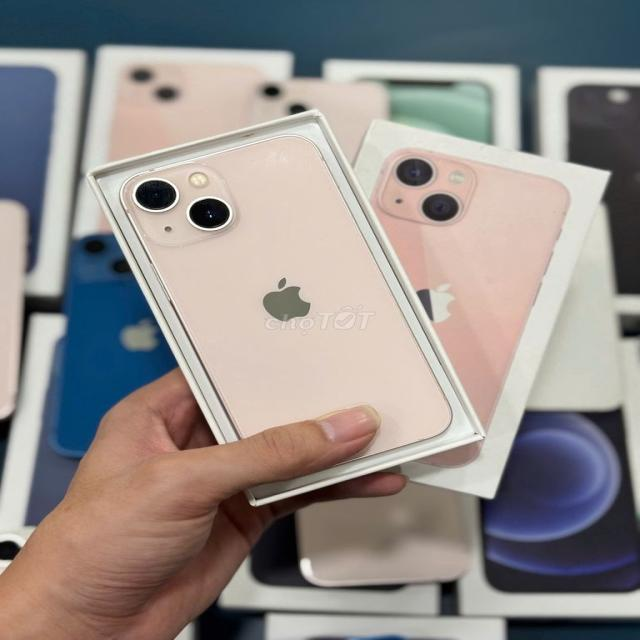gen_12_13: (100, 135, 456, 496)
